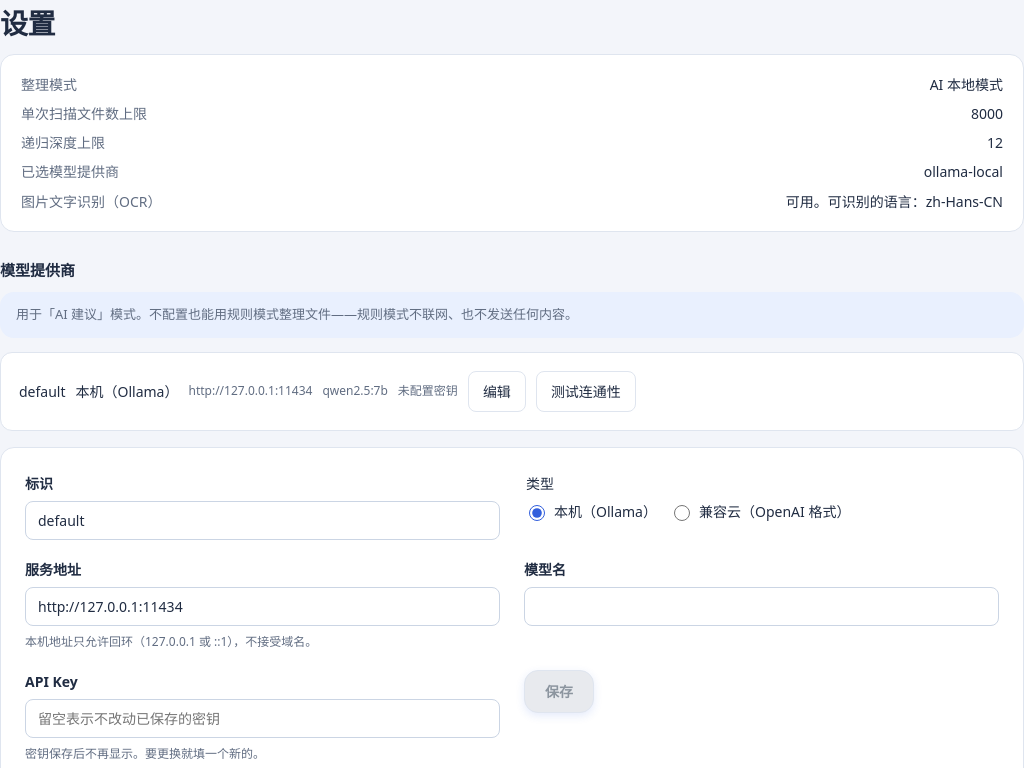
Test: 设置页 › 测试连通性把后端给的结果原文显示出来
This screenshot has width=1024, height=768.
Click the button "测试连通性".
click(586, 391)  # box x1=536 y1=371 x2=636 y2=412
(page scrolled)
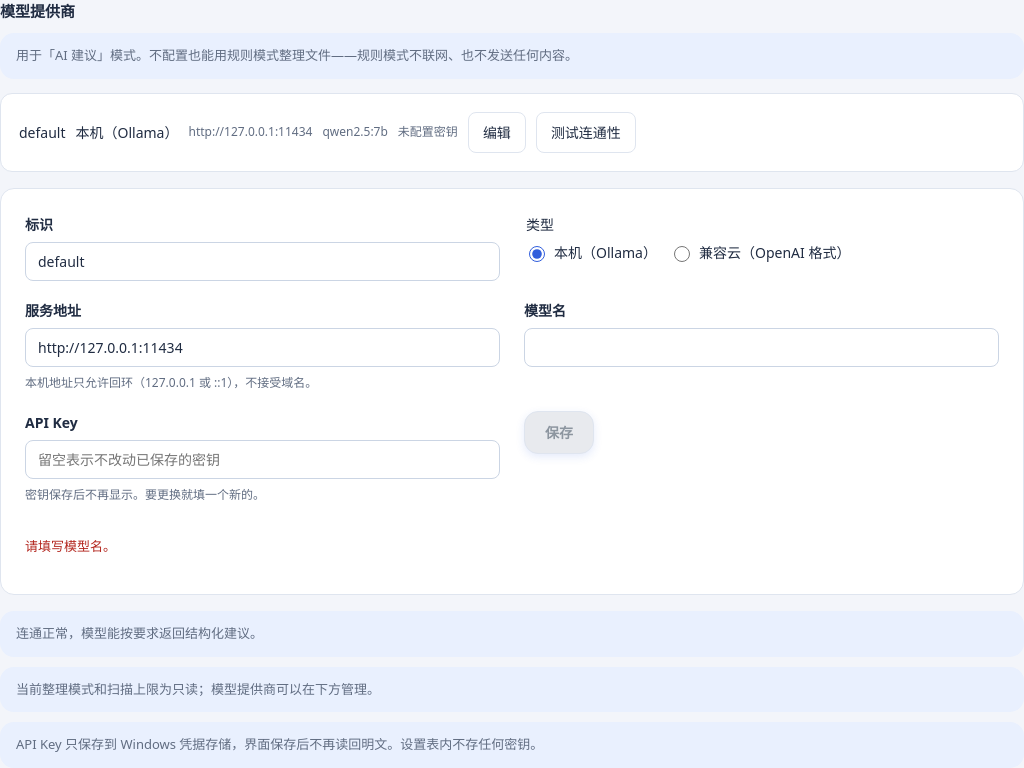
expect the text "连通正常，模型能按要求返回结构化建议。" is shown: met, box x1=0 y1=611 x2=1023 y2=657
